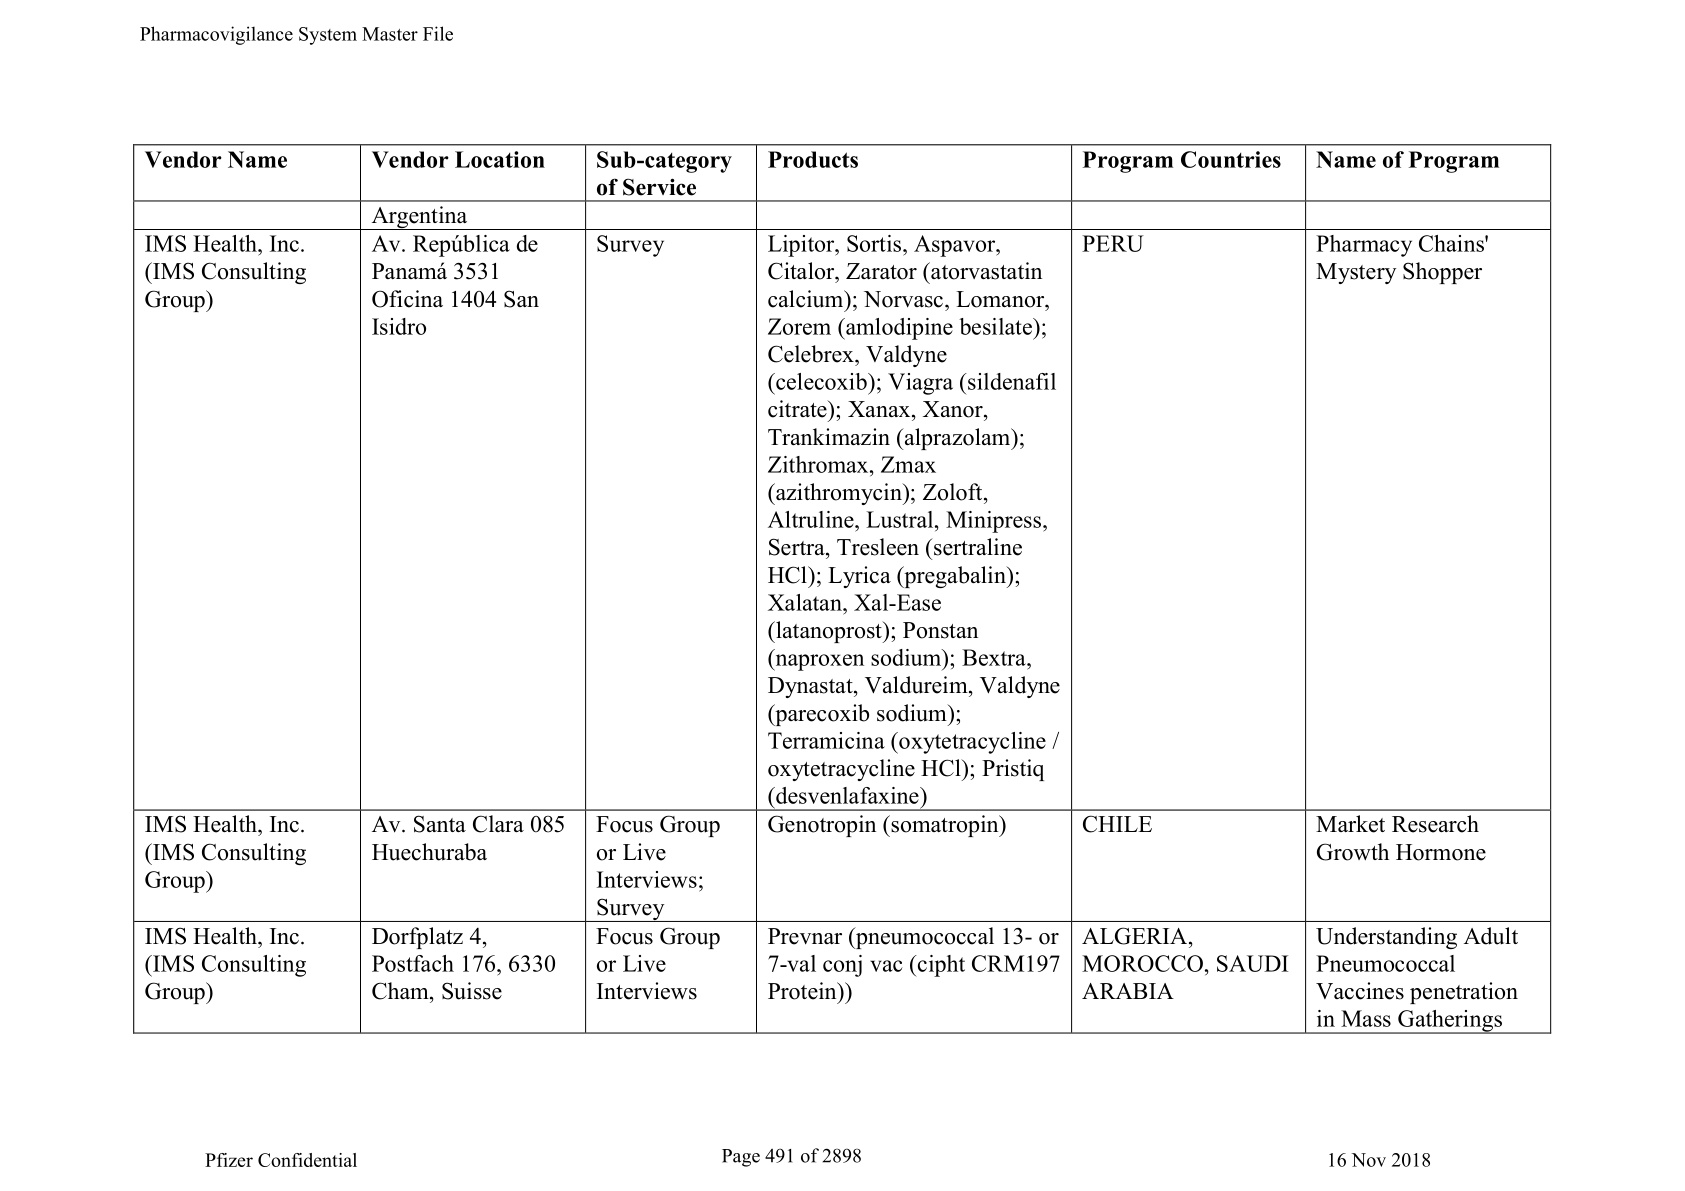full_lined: (131, 143, 1552, 1035)
